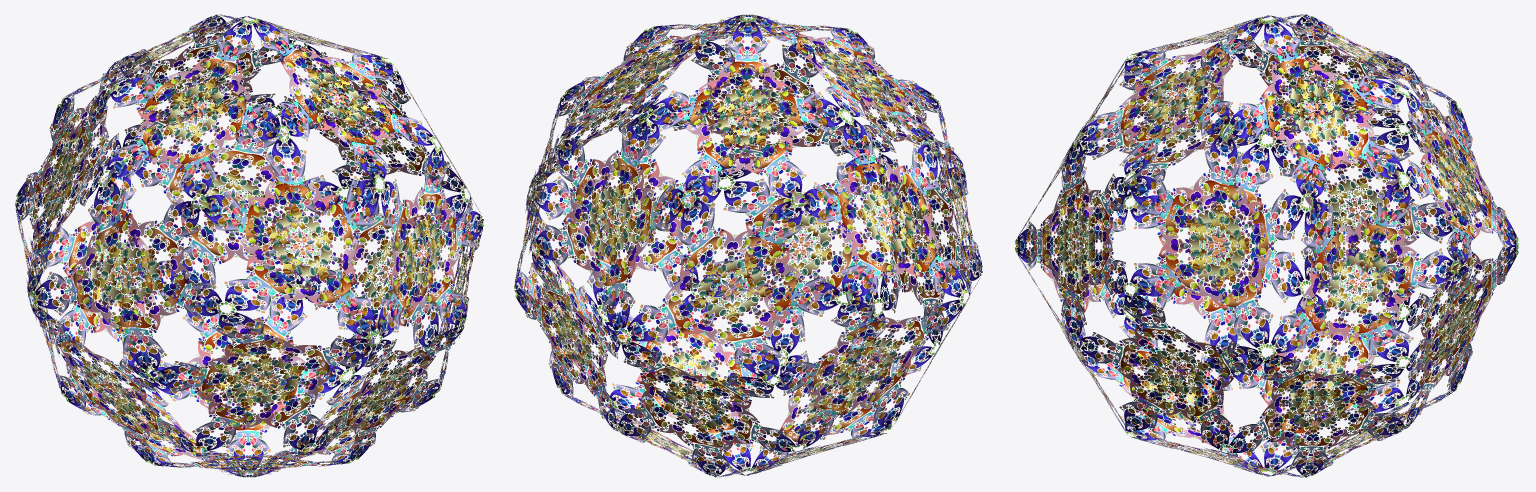
File: PentagonalIcositetrahedron5.obj
3 renders of one model, left to right at view 1: azimuth 30°, elevation 25°; view 2: azimuth 150°, elevation 25°; view 3: azimuth 270°, elevation 25°, orthographic.
Size of the model in its own units: 2.72 by 2.72 by 2.72.
1 material, 1 textured.
